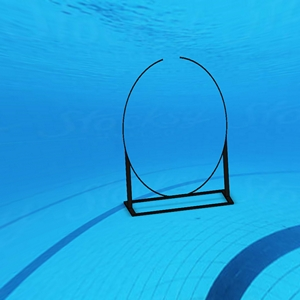circle: (118, 54, 239, 222)
